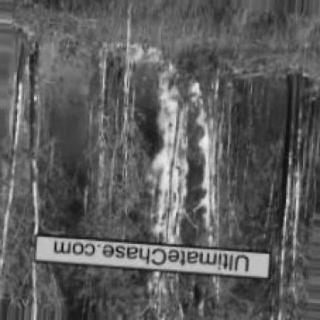Fire: (109, 43, 229, 315)
